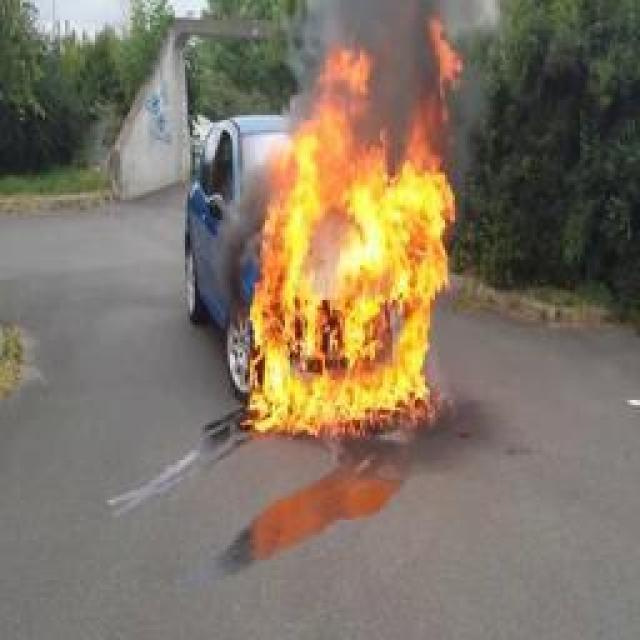Fire: (246, 19, 464, 439)
